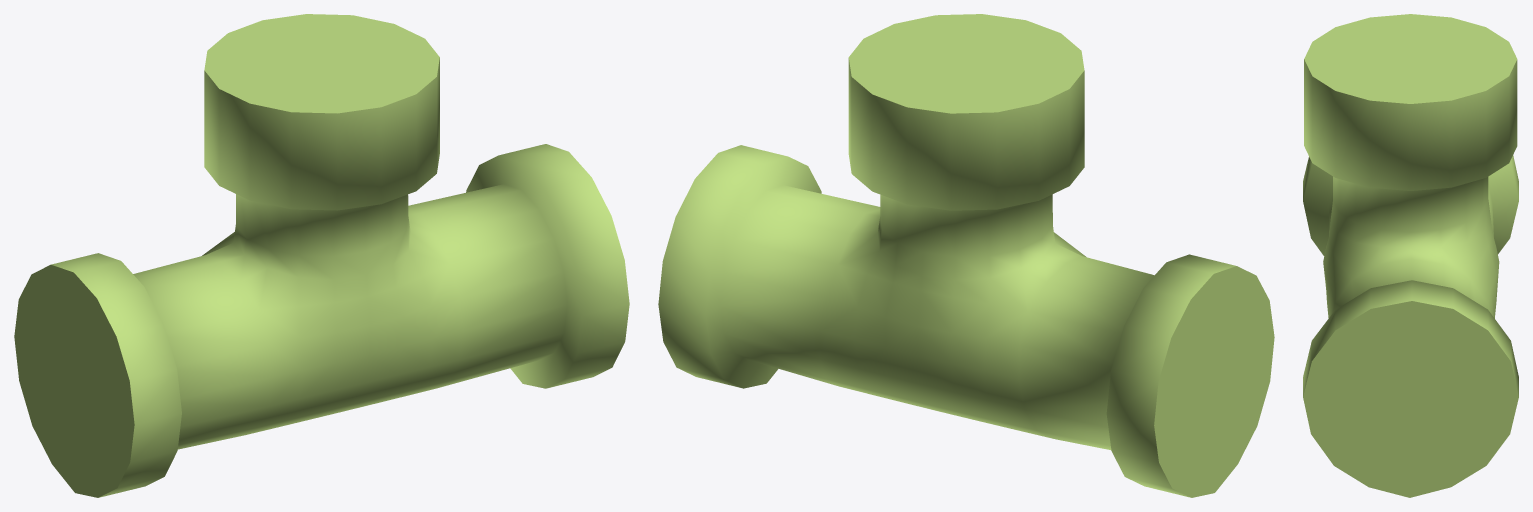
File: _ipe07_low.fbx
The picture shows the model from 3 angles, left to right: view 1: azimuth 30°, elevation 25°; view 2: azimuth 150°, elevation 25°; view 3: azimuth 270°, elevation 25°; orthographic projection. The views are drawn at different scales.
Visible parts, largest first — view 1: Pipe07_low; view 2: Pipe07_low; view 3: Pipe07_low.
Part boxes in pixels (x1,y1,x2,y2): Pipe07_low: (14, 14, 629, 497); Pipe07_low: (658, 14, 1274, 497); Pipe07_low: (1303, 14, 1518, 497).
Bounding box in the file's own units: 14.98 × 10.66 × 6.3.
